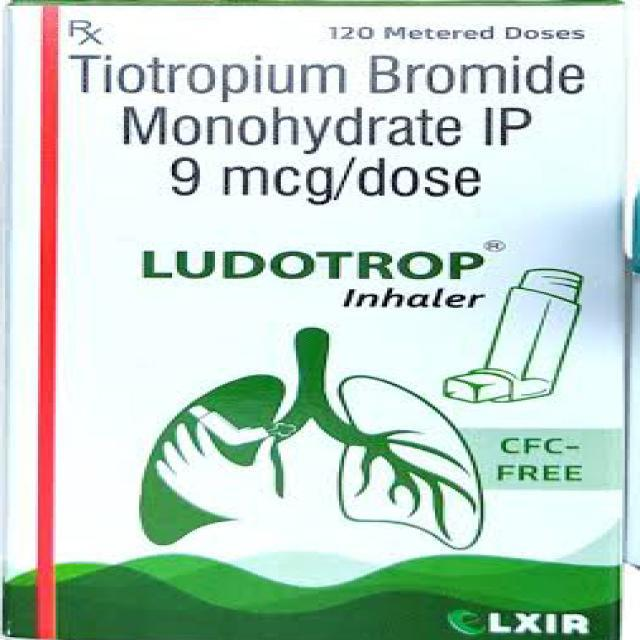drug-name: (134, 238, 485, 286)
